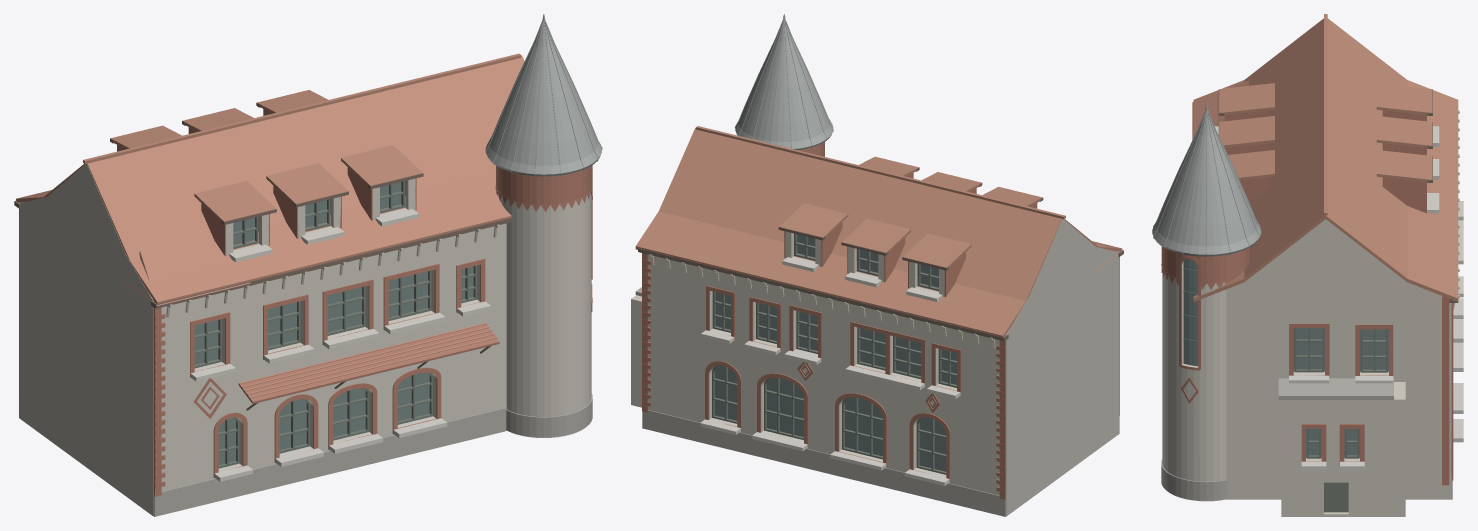
File: xuhui-yongjia-road-501-residence-lod.glb
The picture shows the model from 3 angles, left to right: view 1: azimuth 30°, elevation 25°; view 2: azimuth 150°, elevation 25°; view 3: azimuth 270°, elevation 25°; orthographic projection. The views are drawn at different scales.
Visible parts, largest first — view 1: 永嘉路501号住宅北街面、圆塔与花园立面; view 2: 永嘉路501号住宅北街面、圆塔与花园立面; view 3: 永嘉路501号住宅北街面、圆塔与花园立面.
Boxes of the visible parts, x1,y1,x2,y2 form: 永嘉路501号住宅北街面、圆塔与花园立面: (14, 14, 602, 516); 永嘉路501号住宅北街面、圆塔与花园立面: (631, 14, 1123, 516); 永嘉路501号住宅北街面、圆塔与花园立面: (1152, 14, 1463, 516).
Bounding box in the file's own units: 17.3 × 13.83 × 10.32.
